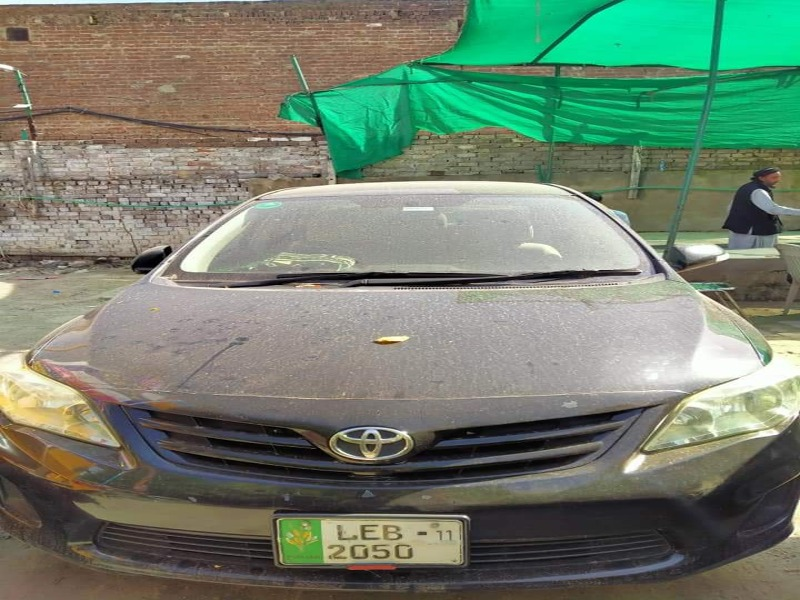License Plate: (269, 511, 473, 575)
